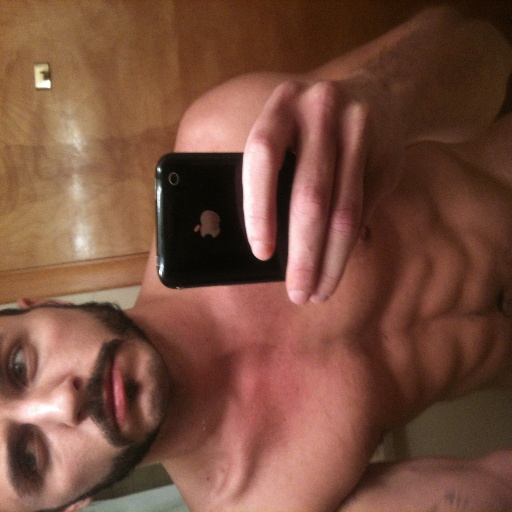hand: (204, 55, 438, 337)
